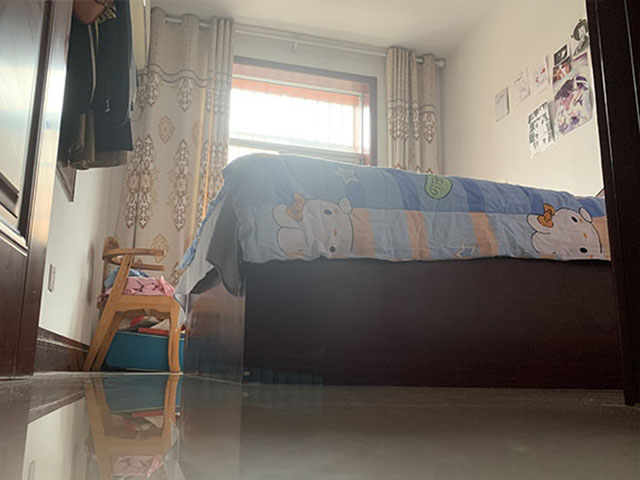bed: (182, 154, 608, 389)
stool: (85, 246, 185, 373)
